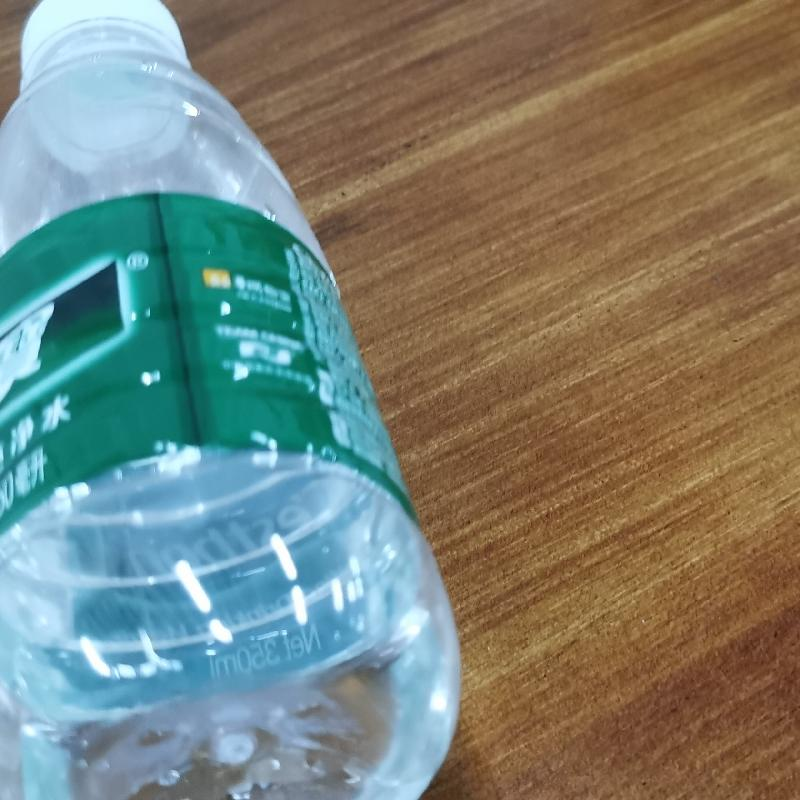bottles: (6, 3, 461, 799)
